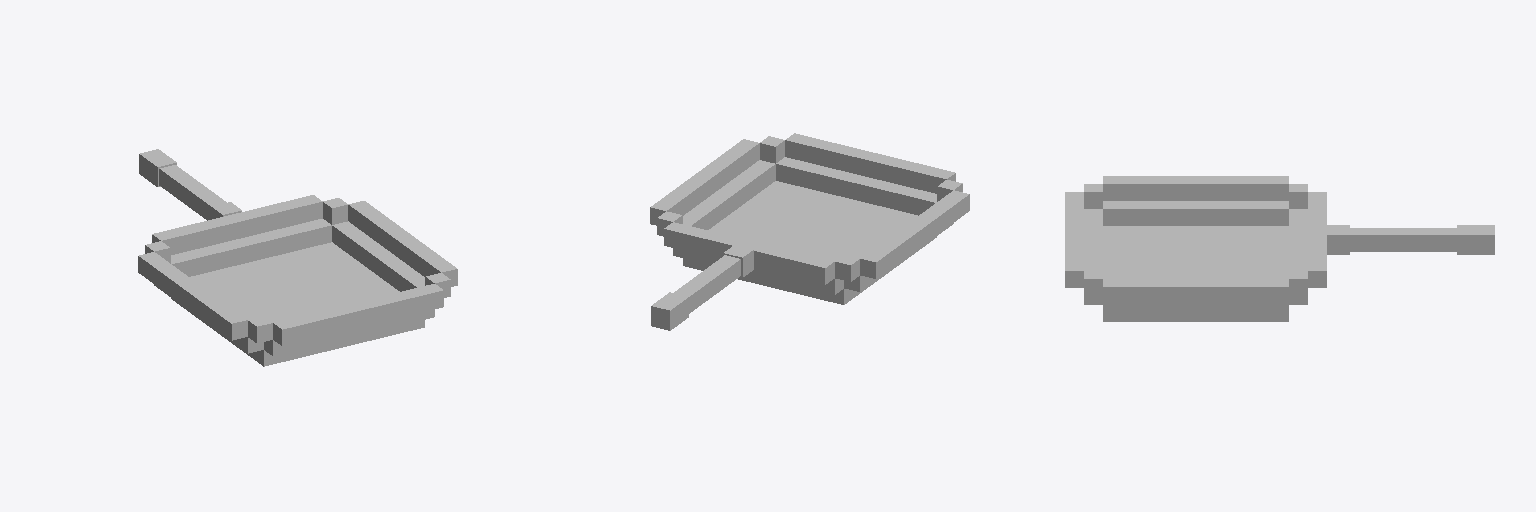
File: shallow_pan.obj
3 renders of one model, left to right at view 1: azimuth 30°, elevation 25°; view 2: azimuth 150°, elevation 25°; view 3: azimuth 270°, elevation 25°, orthographic.
Bounding box in the file's own units: 0.875 × 0.1937 × 1.44.